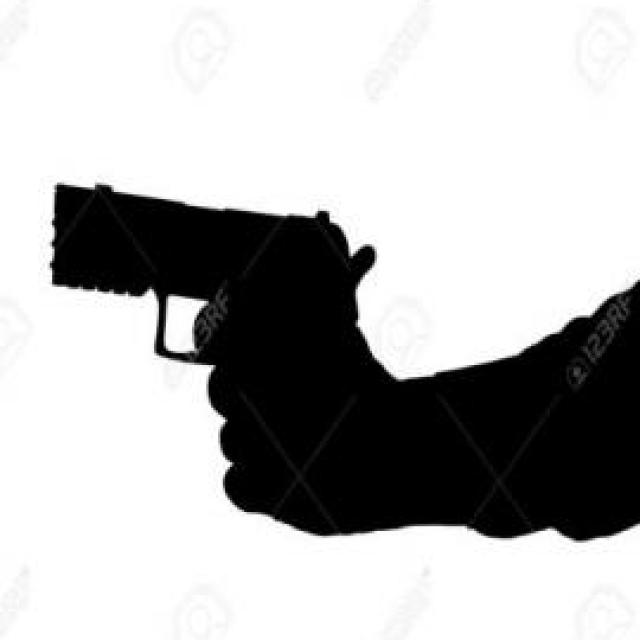pistol: (52, 176, 376, 514)
